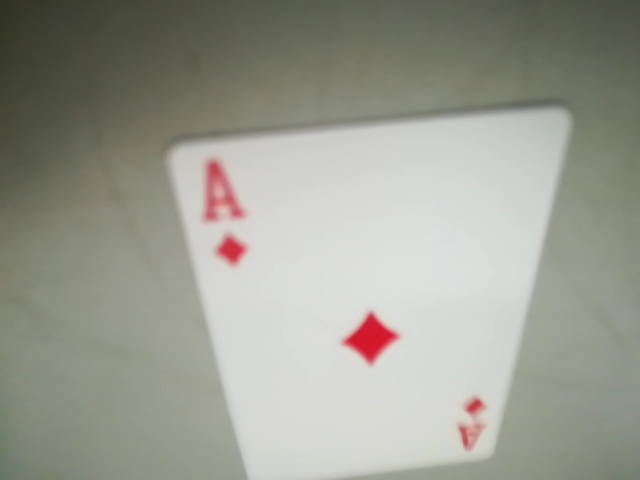fk a: (187, 147, 256, 272), (450, 385, 496, 453)
